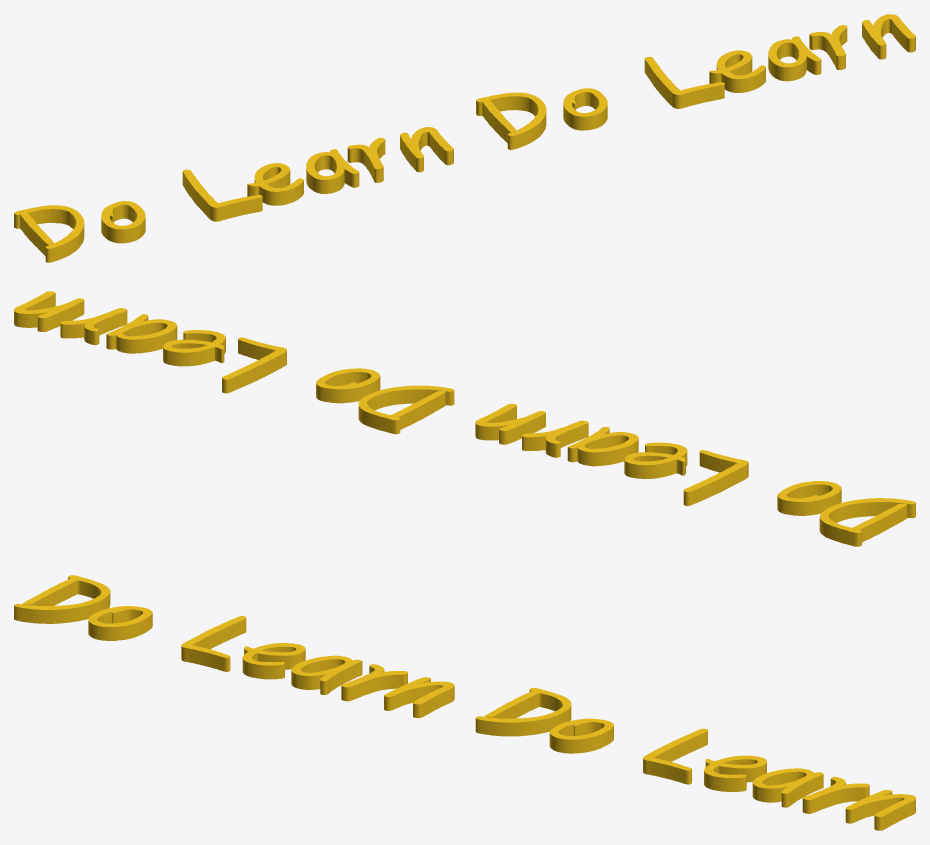
The model's file is DoLearn.glb.
3 renders of one model, top to bottom at view 1: azimuth 30°, elevation 25°; view 2: azimuth 150°, elevation 25°; view 3: azimuth 330°, elevation 25°, orthographic.
Visible parts, largest first — view 1: Text; view 2: Text; view 3: Text.
Boxes of the visible parts, x1,y1,x2,y2 form: Text: (14, 14, 915, 262); Text: (14, 291, 915, 546); Text: (14, 575, 915, 830).
Size of the model in its own units: 6.69 by 0.1012 by 0.6303.
